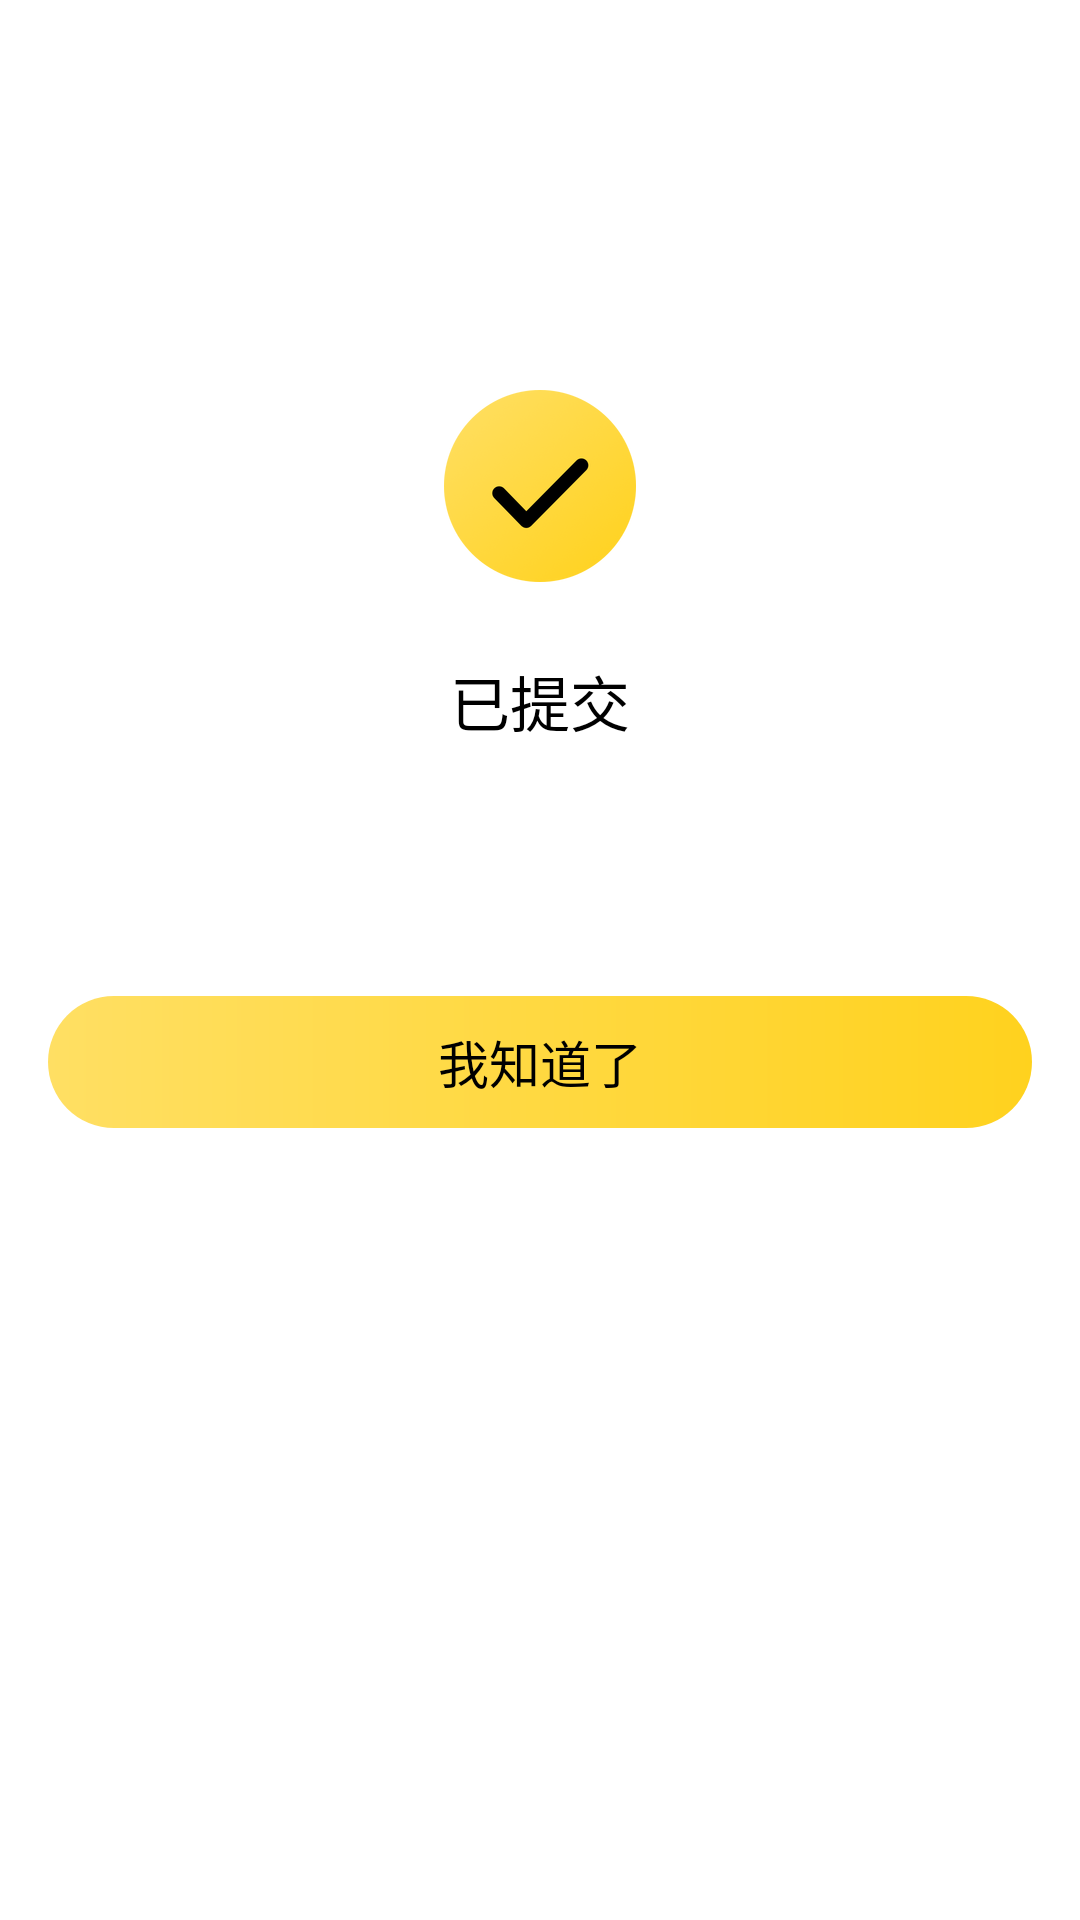

Where to tap for icons on this 1080×1920 app screen, as point (x, y):
down finish: point (540, 486)
